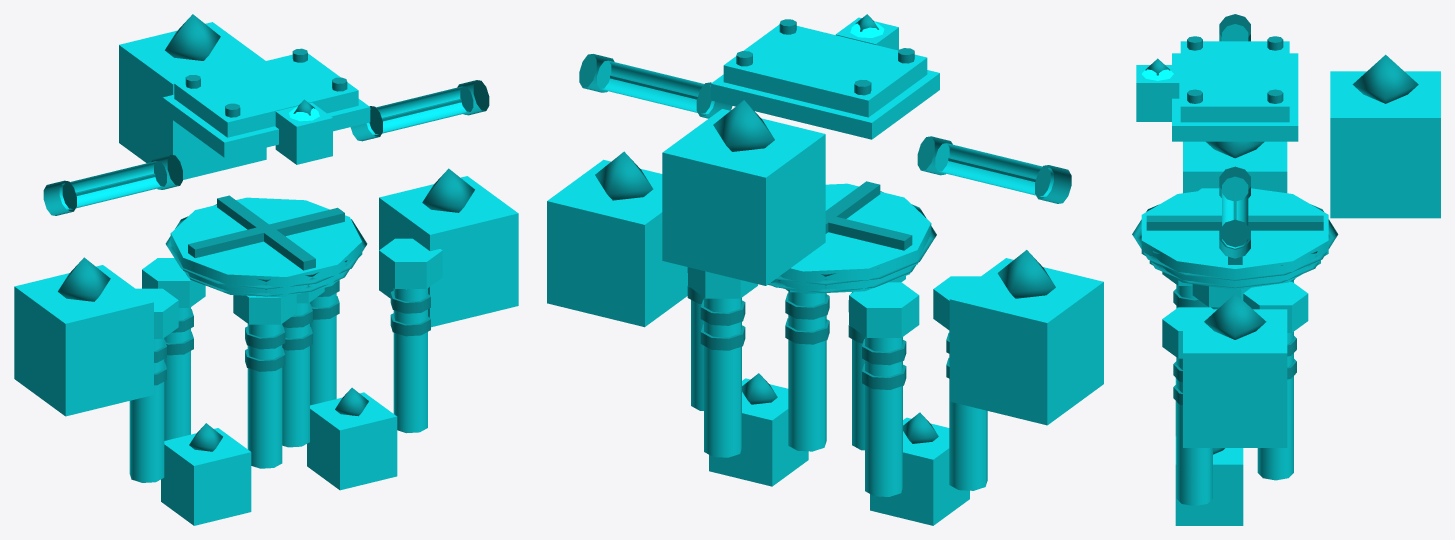
File: golem_038.glb
The picture shows the model from 3 angles, left to right: view 1: azimuth 30°, elevation 25°; view 2: azimuth 150°, elevation 25°; view 3: azimuth 270°, elevation 25°; orthographic projection. The views are drawn at different scales.
Parts seen in each view (by area): view 1: Body, Detail; view 2: Body, Detail; view 3: Body, Detail.
Part boxes in pixels (left/top/right/bottom): Body: left=14, top=22, right=518, bottom=525; Detail: left=43, top=14, right=489, bottom=451; Body: left=547, top=17, right=1103, bottom=525; Detail: left=579, top=14, right=1071, bottom=443; Body: left=1136, top=24, right=1440, bottom=525; Detail: left=1132, top=14, right=1418, bottom=454.
Size of the model in its own units: 1.4 by 1.22 by 0.812.
